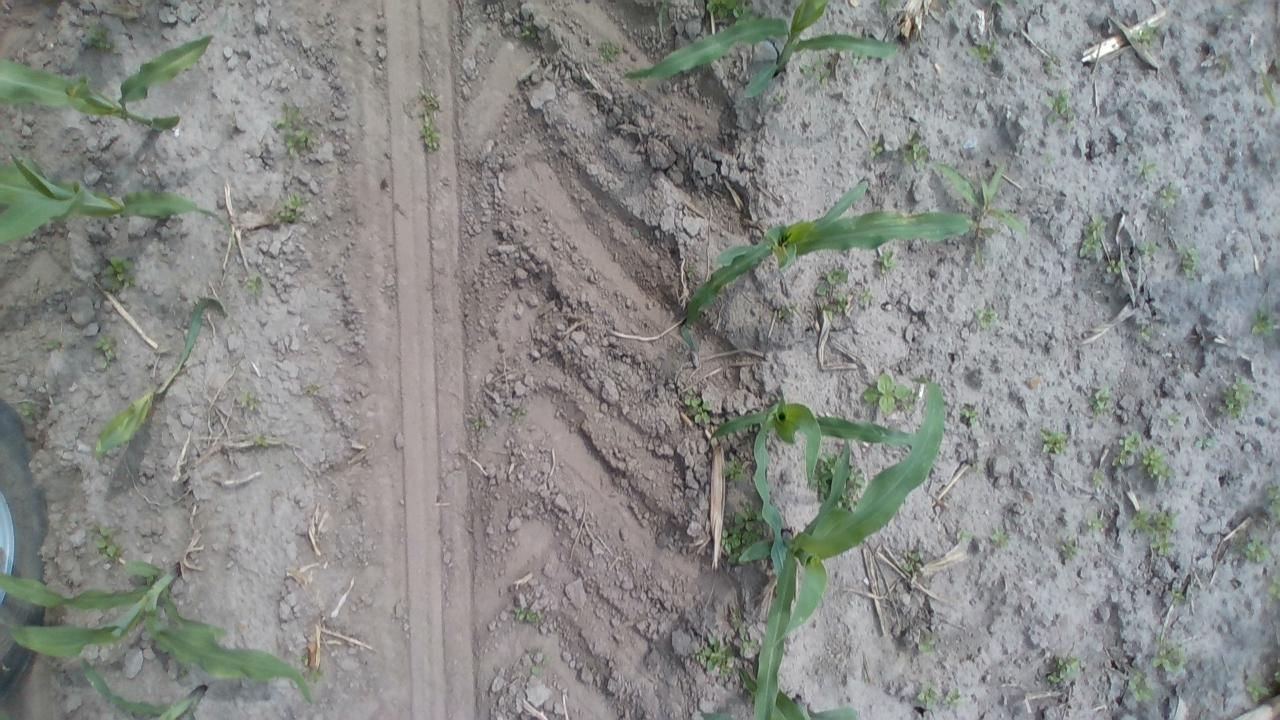Maize: (737, 381, 959, 720), (676, 162, 1008, 356), (0, 552, 317, 712), (706, 400, 938, 588), (617, 0, 900, 102), (0, 138, 233, 250), (2, 22, 217, 138), (90, 296, 216, 466), (695, 664, 864, 720), (84, 670, 203, 720)
Weeds: (933, 158, 1027, 268), (720, 505, 769, 564), (1127, 504, 1178, 556), (860, 373, 918, 416), (274, 101, 316, 160), (1216, 374, 1254, 420), (694, 635, 733, 678), (1150, 634, 1189, 676), (814, 266, 849, 310), (808, 452, 838, 503), (97, 254, 138, 291), (1078, 210, 1108, 258), (1040, 89, 1076, 128), (702, 1, 754, 26), (86, 525, 122, 561), (900, 129, 930, 172), (1139, 446, 1174, 482), (836, 468, 863, 514), (682, 388, 714, 426), (274, 191, 309, 225), (1235, 531, 1271, 564), (1110, 430, 1139, 470), (818, 282, 850, 317), (1046, 652, 1080, 684), (1036, 426, 1070, 457), (1260, 58, 1280, 110), (800, 57, 833, 88), (1126, 668, 1156, 702), (84, 21, 116, 52), (418, 111, 442, 152), (1174, 244, 1200, 280), (95, 336, 124, 368), (914, 684, 950, 709), (1250, 305, 1276, 338), (526, 646, 550, 676), (510, 604, 546, 624), (1132, 22, 1158, 48), (1244, 678, 1271, 703), (1092, 382, 1112, 415), (973, 304, 998, 330), (876, 247, 899, 275), (722, 457, 744, 486), (738, 630, 760, 659), (1263, 483, 1280, 520), (1084, 510, 1108, 536), (1058, 537, 1082, 562), (1135, 156, 1158, 182), (599, 37, 621, 64), (418, 88, 441, 112), (986, 526, 1010, 549), (972, 40, 997, 62), (934, 688, 960, 708), (1158, 184, 1181, 206), (958, 405, 982, 426), (914, 632, 936, 654), (1138, 238, 1160, 260), (239, 390, 260, 413), (866, 136, 886, 160), (242, 272, 262, 296), (1105, 255, 1126, 277), (1168, 585, 1190, 606), (904, 551, 924, 574), (17, 402, 39, 422), (776, 302, 798, 322), (1088, 467, 1106, 490), (858, 286, 876, 308), (1266, 572, 1280, 600), (40, 338, 64, 354), (873, 0, 905, 12), (304, 662, 322, 682), (1138, 321, 1156, 340), (1164, 410, 1182, 429), (1196, 433, 1216, 450), (468, 412, 485, 432), (302, 380, 324, 395), (967, 452, 982, 474), (508, 405, 528, 421), (954, 528, 974, 544), (1042, 150, 1058, 170), (521, 21, 539, 38), (772, 90, 788, 109), (1214, 56, 1232, 72), (1043, 52, 1057, 72), (729, 610, 743, 630), (253, 434, 270, 450), (852, 52, 866, 68), (1273, 658, 1280, 686), (684, 266, 698, 278), (992, 0, 1008, 10), (946, 0, 958, 7)
